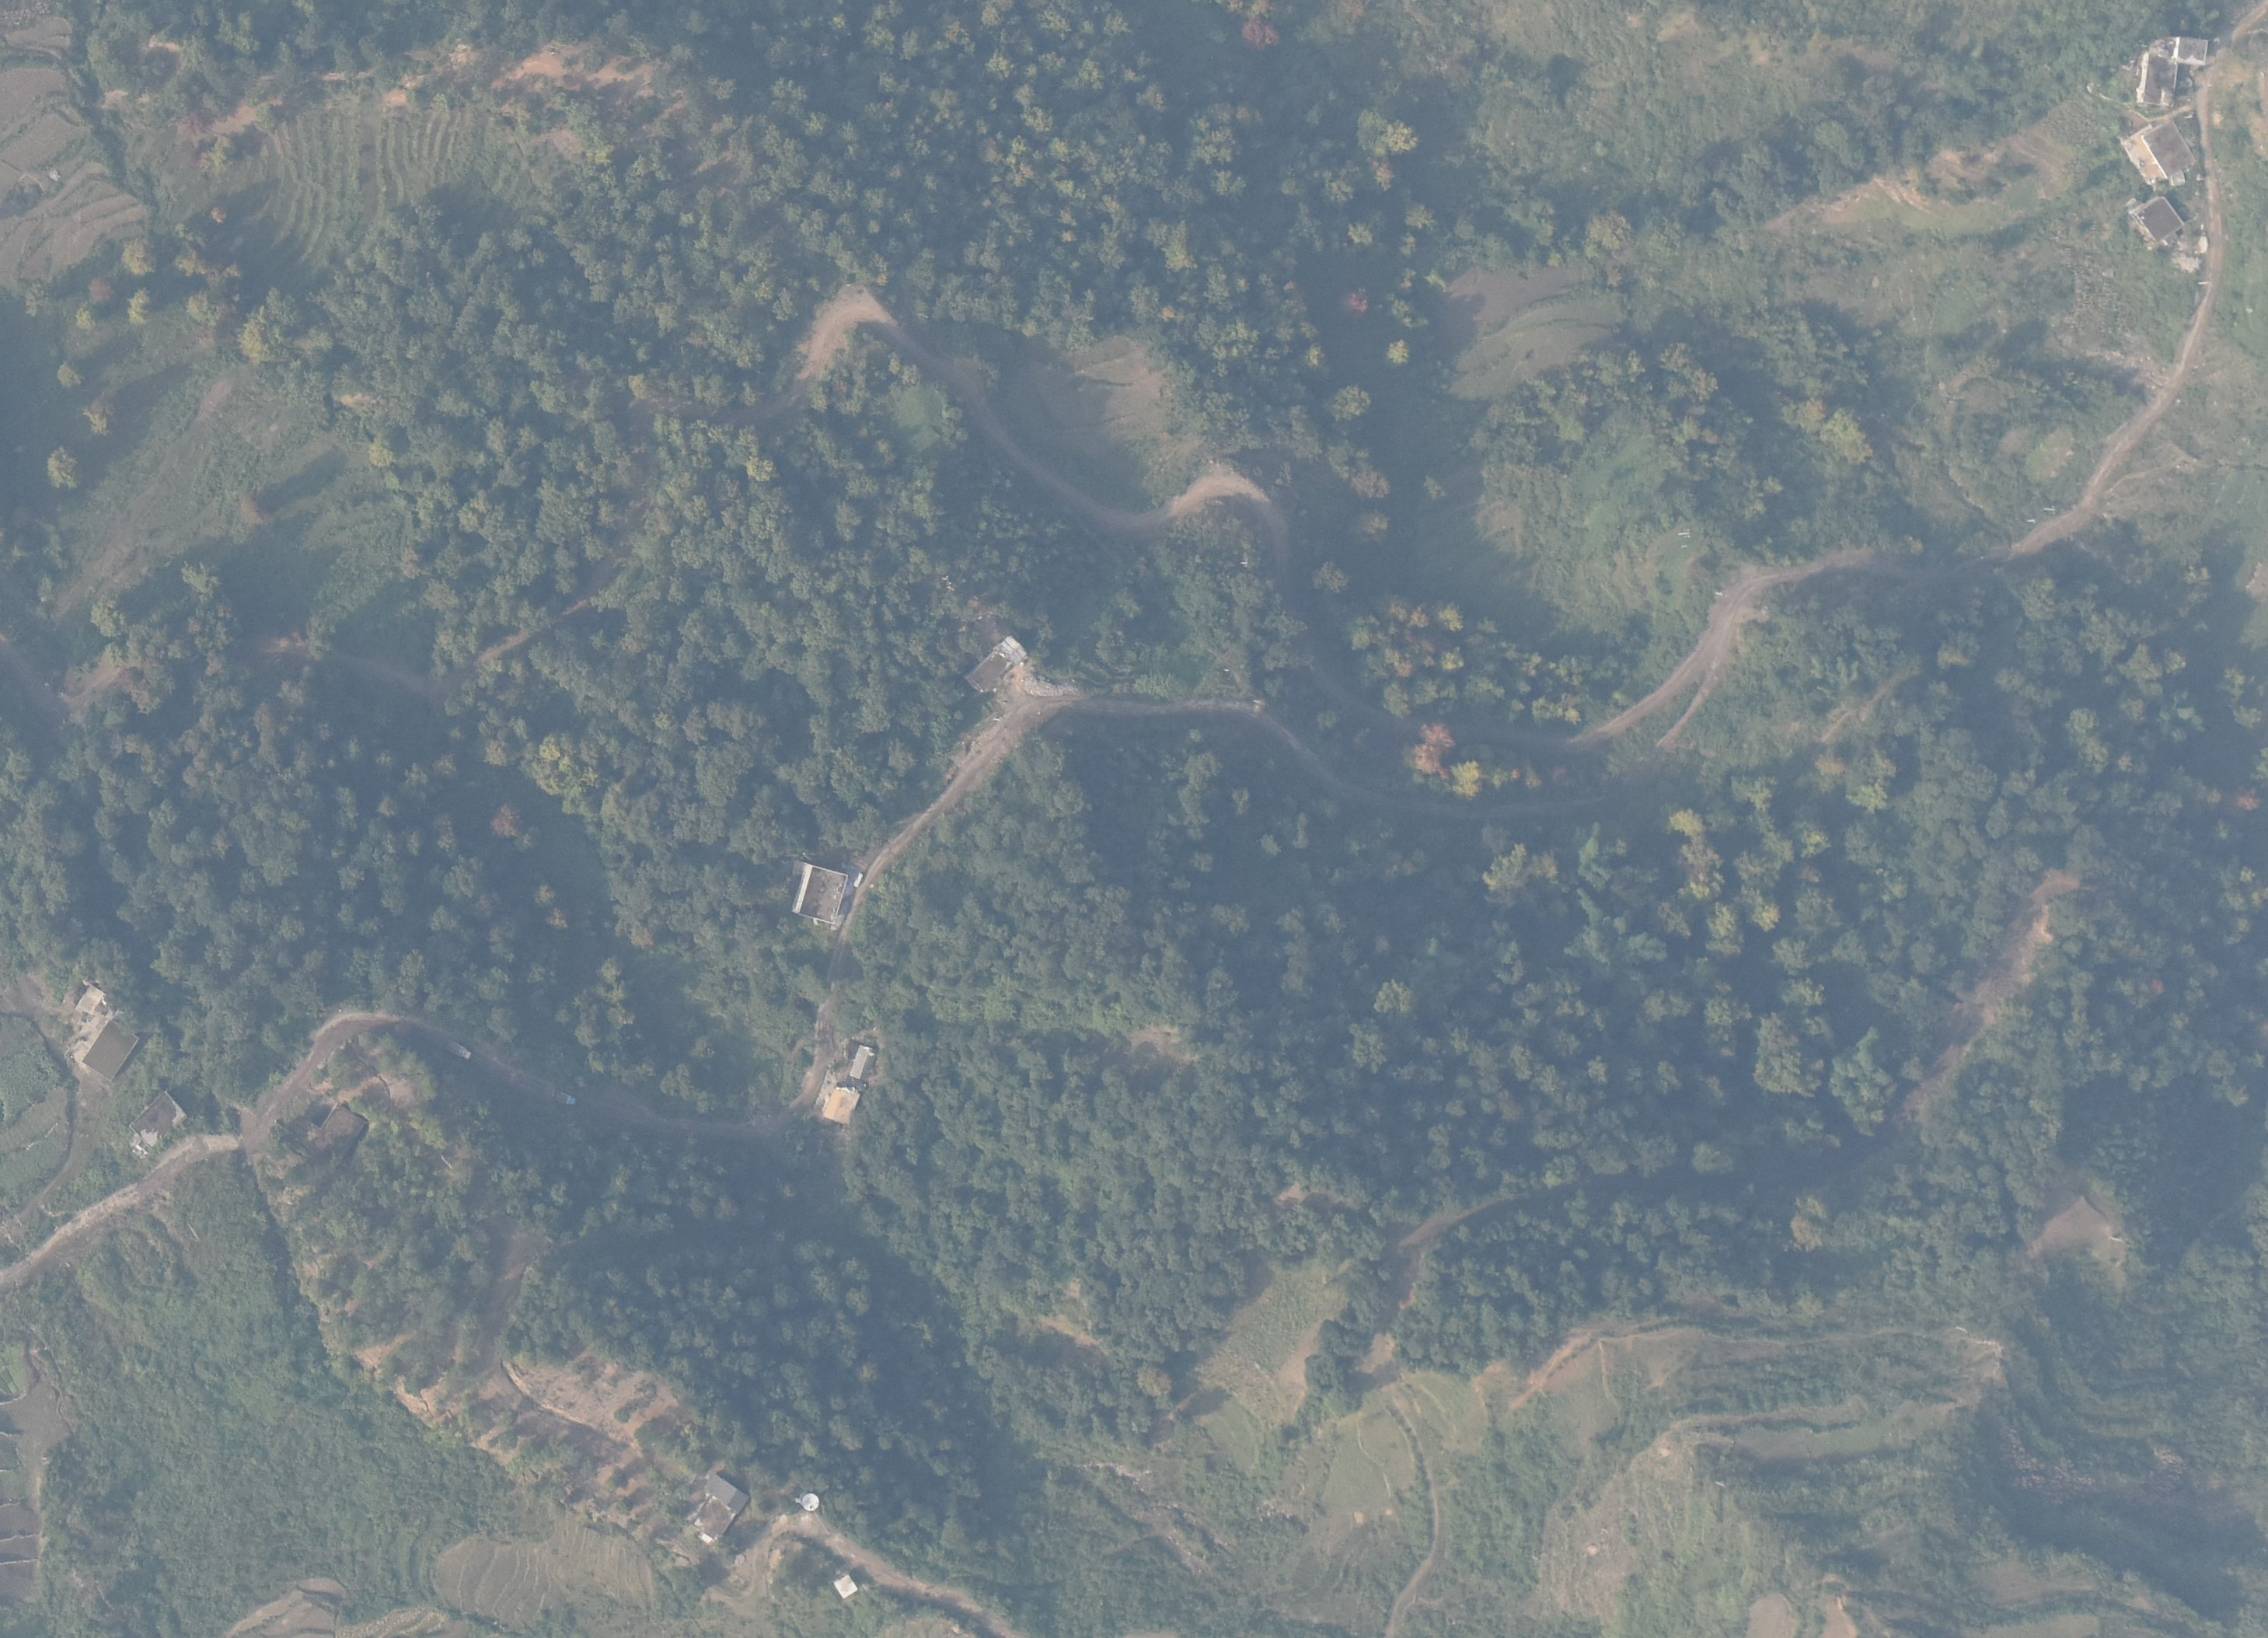building: (2139, 114, 2199, 190), (791, 861, 854, 928), (127, 1087, 188, 1154), (963, 636, 1034, 694), (81, 1016, 141, 1080), (2125, 192, 2187, 252), (2132, 49, 2182, 109), (703, 1471, 752, 1515), (2169, 30, 2213, 67), (822, 1085, 859, 1127), (847, 1043, 880, 1081), (74, 983, 107, 1016)
prefabricated-house: (831, 1571, 863, 1599)
vehicle: (548, 1087, 586, 1108), (444, 1037, 475, 1060)
well: (799, 1494, 822, 1513)
